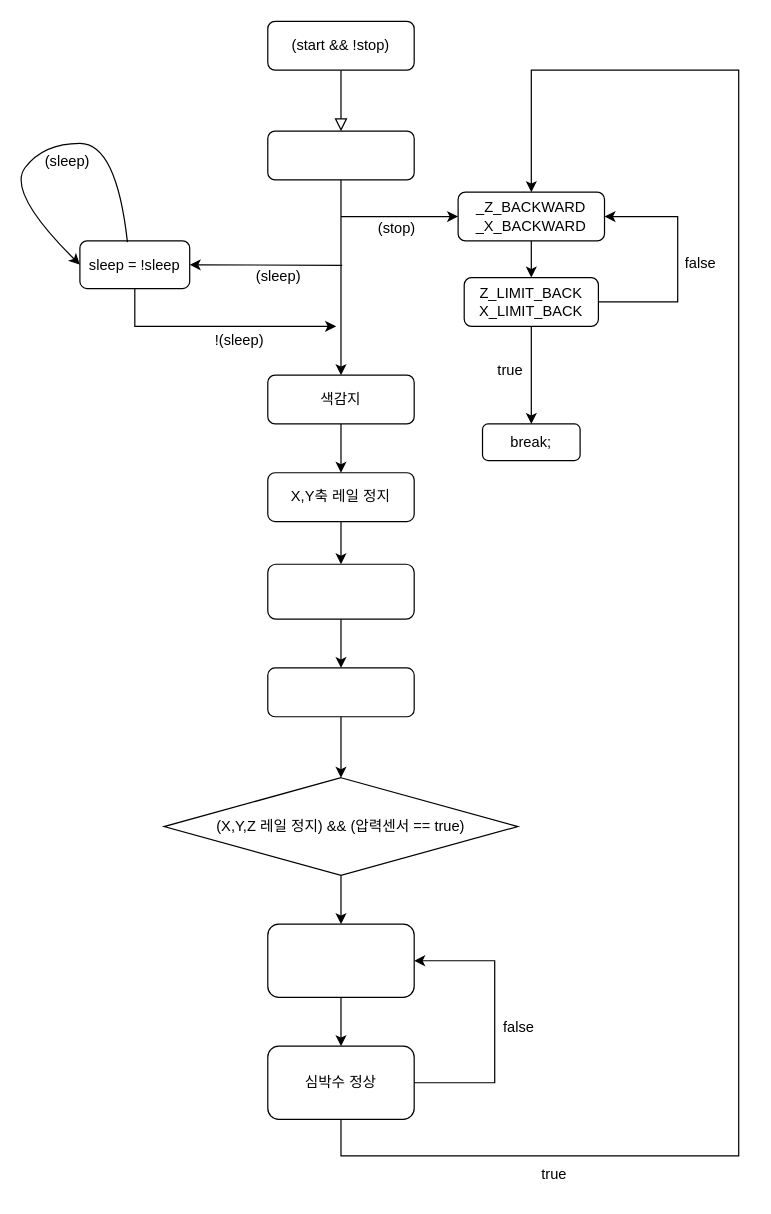
Image size: 771x1214. Some labels were removed from this diagram. Each missing label, with the centre of its shape:
"_Z_FORWARD _X_FORWARD" belongs at point 340,155.
"Z축 레일 정지" belongs at point 340,692.
"압력센서 감지" belongs at point 340,591.
"액추에이터 작동" belongs at point 340,960.
